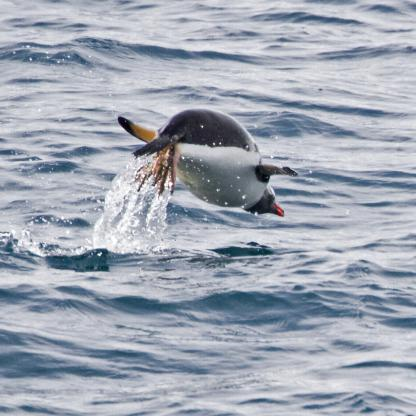Penguin: (106, 83, 302, 246)
